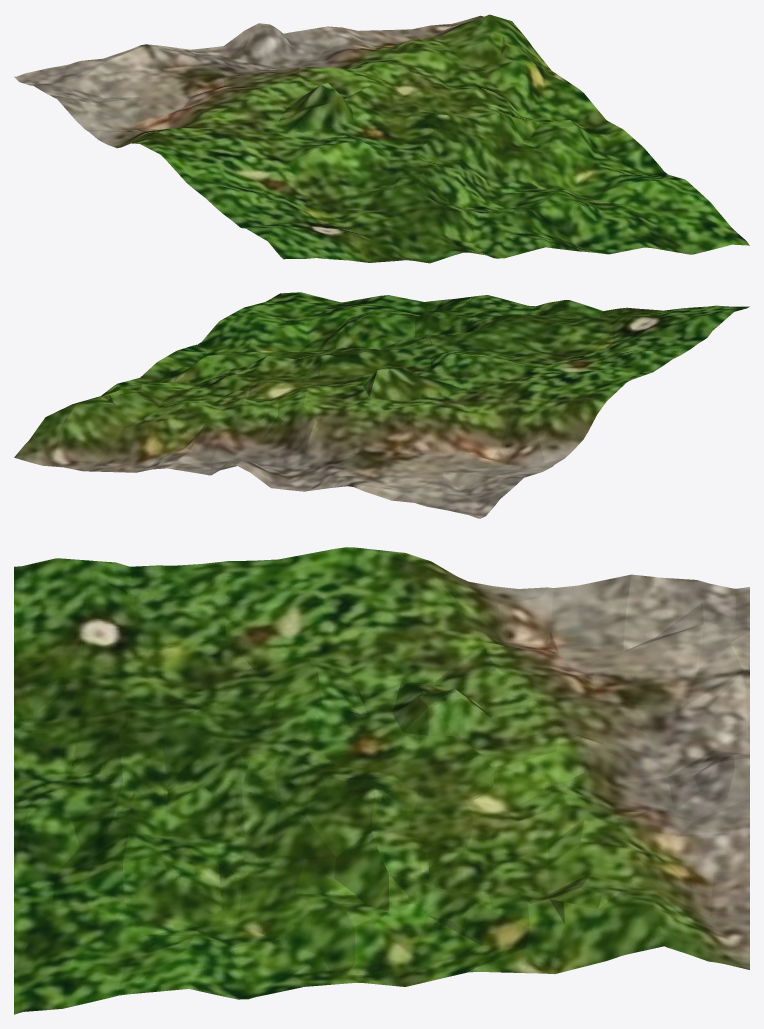
3 views of the same model, one above another, from view 1: azimuth 30°, elevation 25°; view 2: azimuth 150°, elevation 25°; view 3: azimuth 270°, elevation 25° (orthographic). The views are drawn at different scales.
Size of the model in its own units: 1.67 by 0.3932 by 1.67.
Materials: 3 (3 with a texture image).
